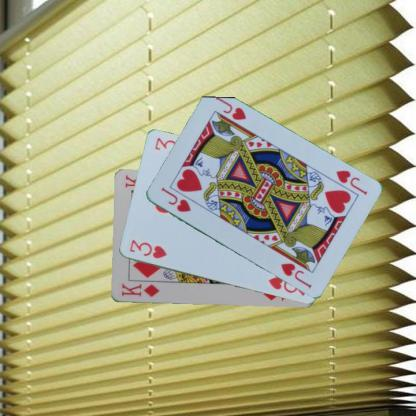3h: (127, 237, 168, 260)
Jh: (158, 184, 192, 214), (332, 168, 368, 196)
Kd: (119, 281, 160, 298)
